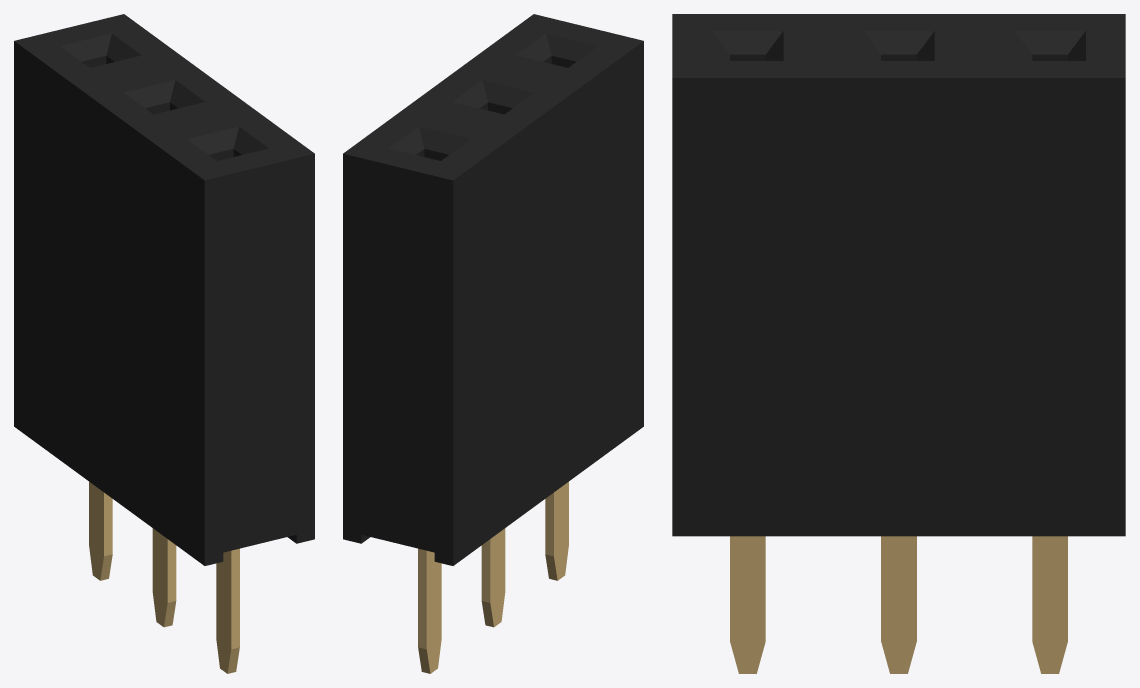
File: PinSocket_1x03_P2.54mm_Vertical.glb
The picture shows the model from 3 angles, left to right: view 1: azimuth 30°, elevation 25°; view 2: azimuth 150°, elevation 25°; view 3: azimuth 270°, elevation 25°; orthographic projection. The views are drawn at different scales.
Visible parts, largest first — view 1: =>[0:1:1:3]; view 2: =>[0:1:1:3]; view 3: =>[0:1:1:3].
Part boxes in pixels (bbox=[...]): =>[0:1:1:3]: bbox=[14, 14, 314, 673]; =>[0:1:1:3]: bbox=[343, 14, 643, 673]; =>[0:1:1:3]: bbox=[672, 14, 1125, 673].
Size of the model in its own units: 0.00254 by 0.0116 by 0.00762.
